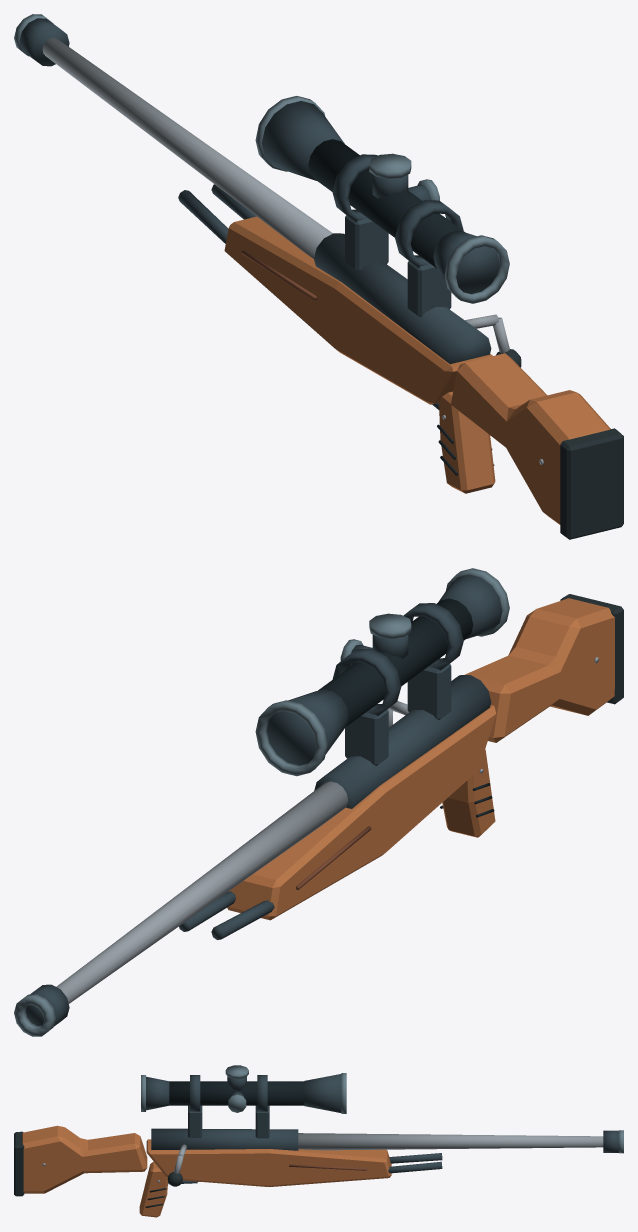
The model's file is WpnSniper.glb.
The picture shows the model from 3 angles, top to bottom: view 1: azimuth 30°, elevation 25°; view 2: azimuth 150°, elevation 25°; view 3: azimuth 270°, elevation 25°; orthographic projection. The views are drawn at different scales.
Visible parts, largest first — view 1: WpnSniper; view 2: WpnSniper; view 3: WpnSniper.
Part boxes in pixels (left/top/right/bottom): WpnSniper: left=14, top=14, right=623, bottom=539; WpnSniper: left=14, top=568, right=623, bottom=1036; WpnSniper: left=14, top=1065, right=623, bottom=1217.
Size of the model in its own units: 0.1527 by 0.3692 by 1.42.
